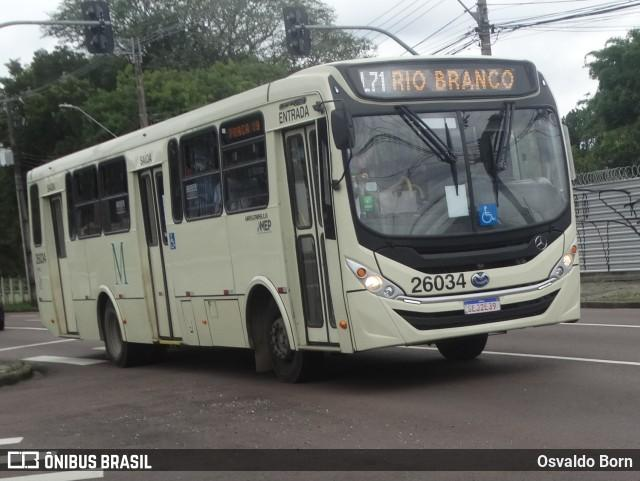RIO BRANCO: (384, 64, 518, 95)
